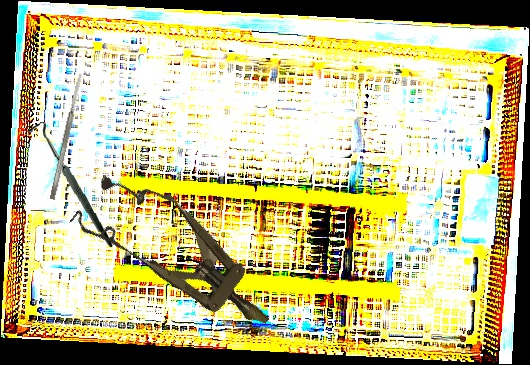Hook Surgical: (26, 118, 114, 252)
Spatula Surgical: (48, 72, 85, 201)
Speculum: (67, 156, 293, 356)
